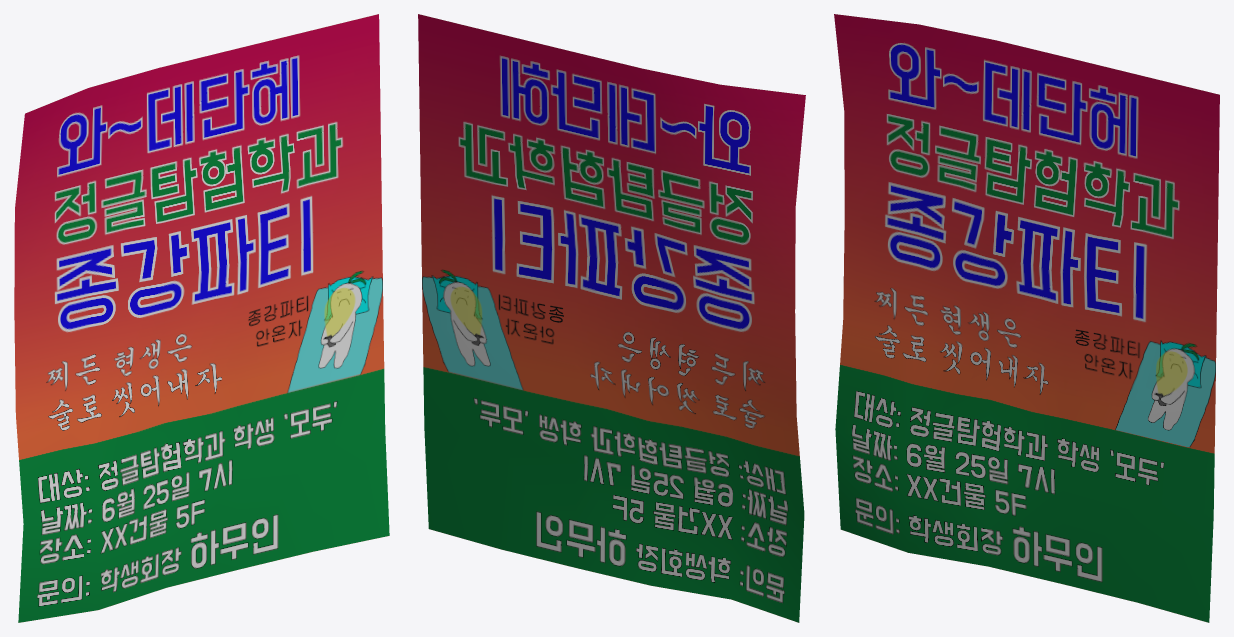
Rendered from Poster.fbx.
The picture shows the model from 3 angles, left to right: view 1: azimuth 30°, elevation 25°; view 2: azimuth 150°, elevation 25°; view 3: azimuth 330°, elevation 25°; orthographic projection.
Visible parts, largest first — view 1: pPlane1; view 2: pPlane1; view 3: pPlane1.
Part boxes in pixels (x1,y1,x2,y2): pPlane1: [14, 14, 389, 622]; pPlane1: [418, 14, 805, 622]; pPlane1: [834, 14, 1219, 622].
Size of the model in its own units: 1 by 1.34 by 0.0784.
Materials: 1 (1 with a texture image).
